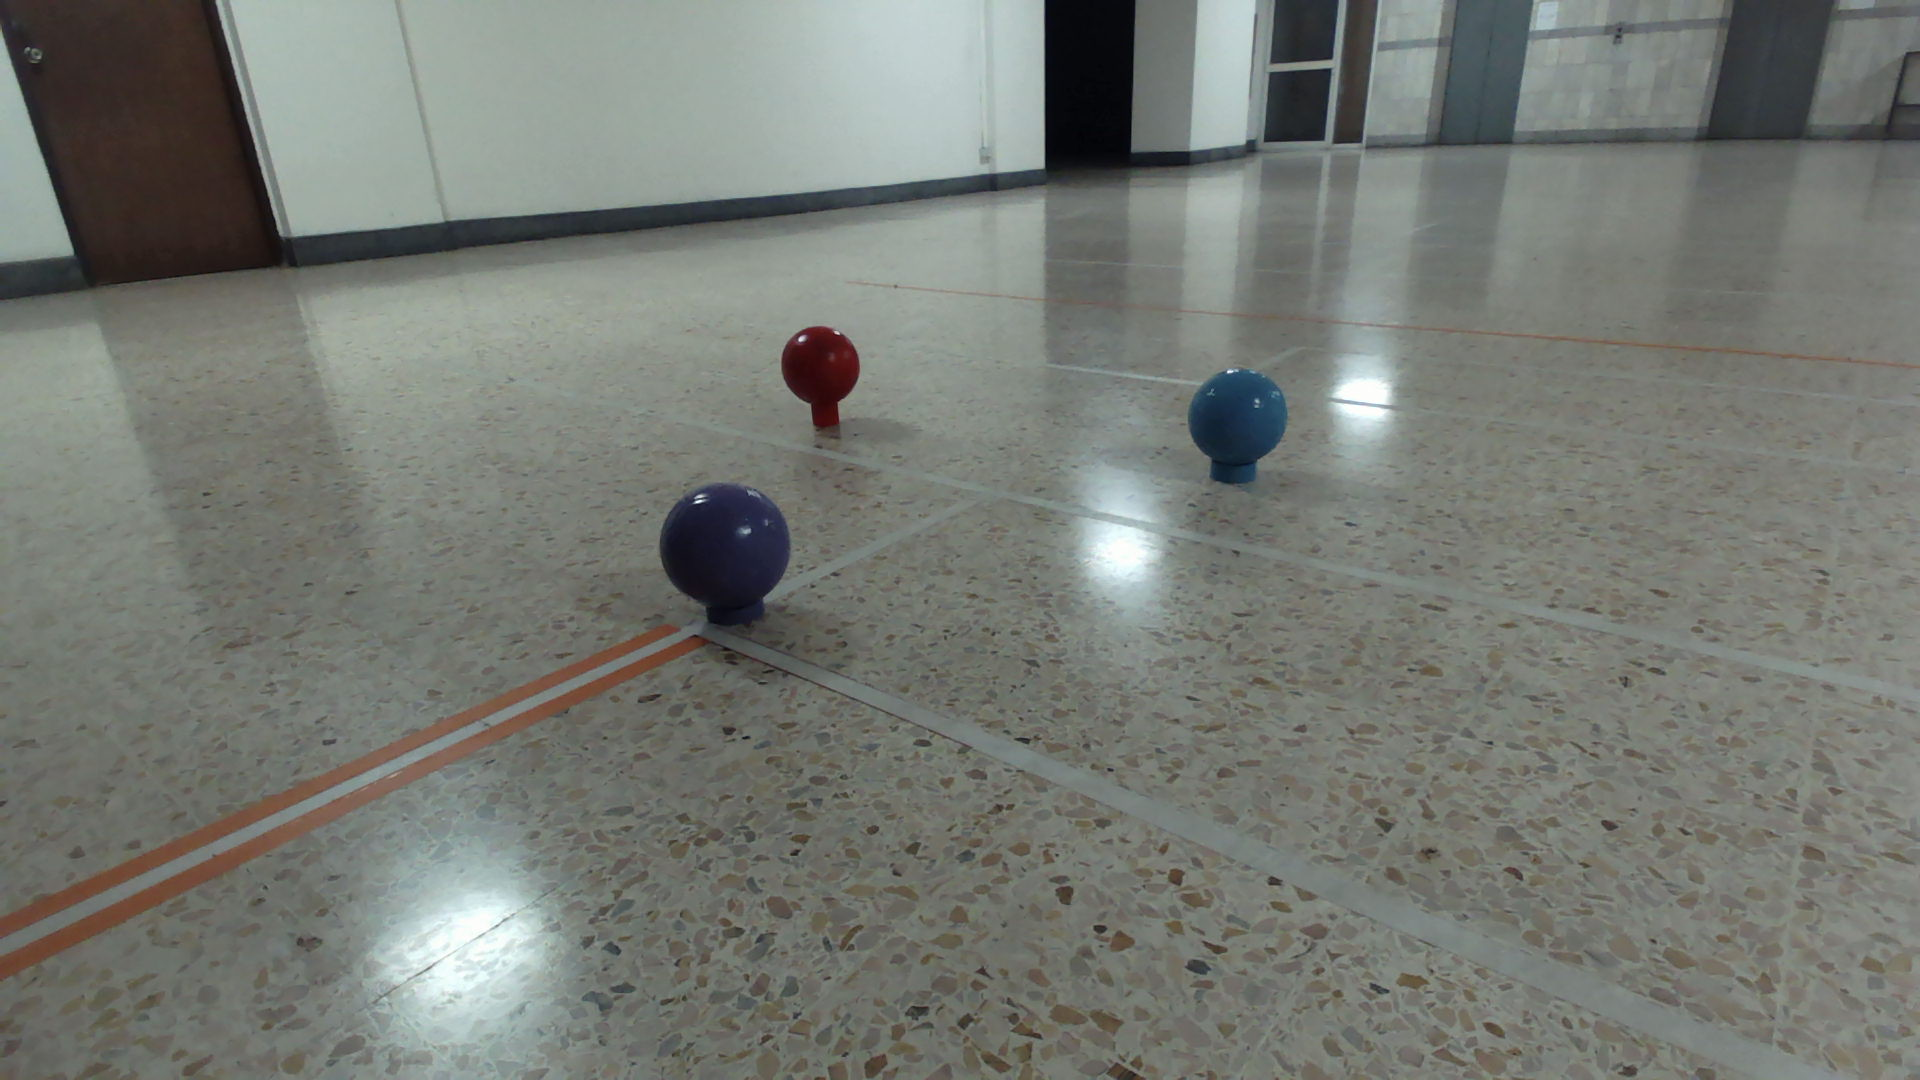Blue ball: (1185, 364, 1287, 467)
Purple ball: (658, 479, 791, 609)
Red ball: (779, 324, 861, 407)
